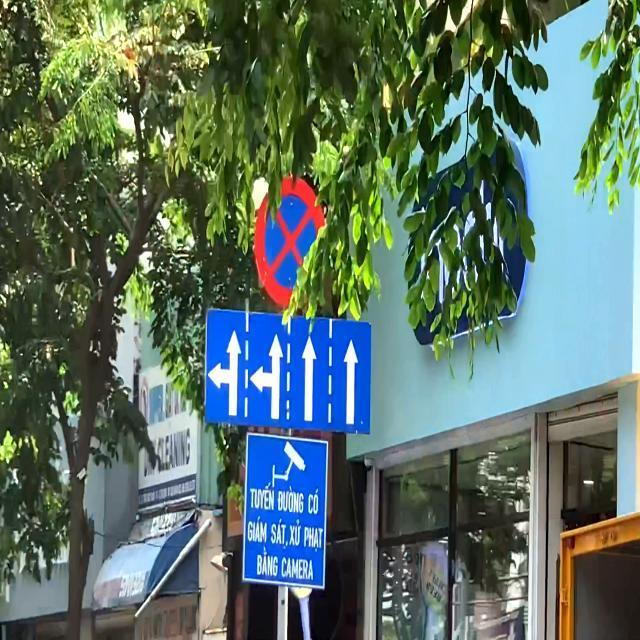130-cam-dung-va-do-xe: (255, 176, 330, 308)
